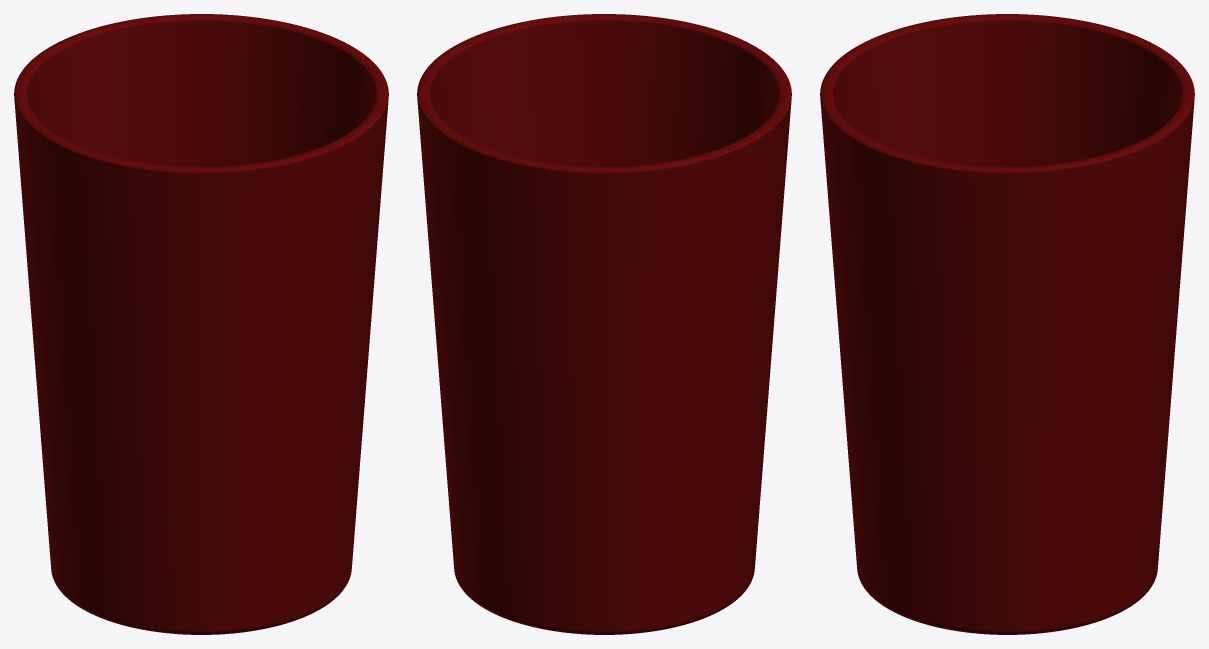
File: model18clear.glb
3 views of the same model, side by side, from view 1: azimuth 30°, elevation 25°; view 2: azimuth 150°, elevation 25°; view 3: azimuth 270°, elevation 25° (orthographic).
Size of the model in its own units: 0.085 by 0.1208 by 0.085.
